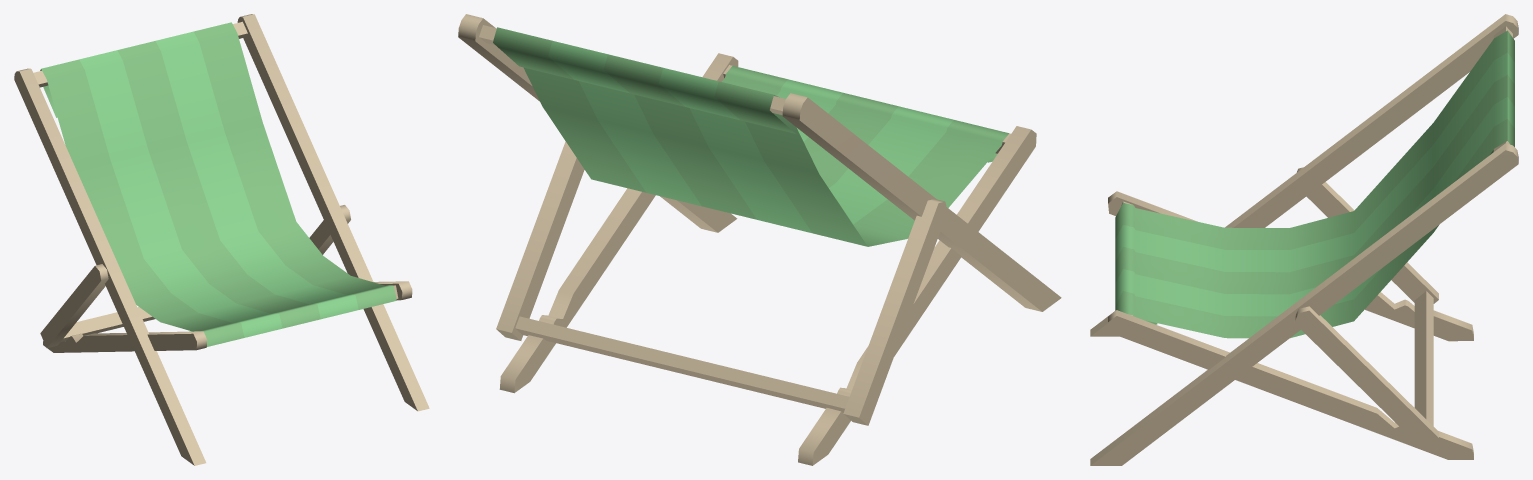
File: BeachChair_Green.fbx
The picture shows the model from 3 angles, left to right: view 1: azimuth 30°, elevation 25°; view 2: azimuth 150°, elevation 25°; view 3: azimuth 270°, elevation 25°; orthographic projection. The views are drawn at different scales.
Visible parts, largest first — view 1: BeachChair_Green; view 2: BeachChair_Green; view 3: BeachChair_Green.
Part boxes in pixels (box(x1,y1,x2,y2)): BeachChair_Green: box(14, 14, 429, 465); BeachChair_Green: box(458, 14, 1061, 465); BeachChair_Green: box(1090, 14, 1518, 465).
Size of the model in its own units: 117 by 119 by 146.
